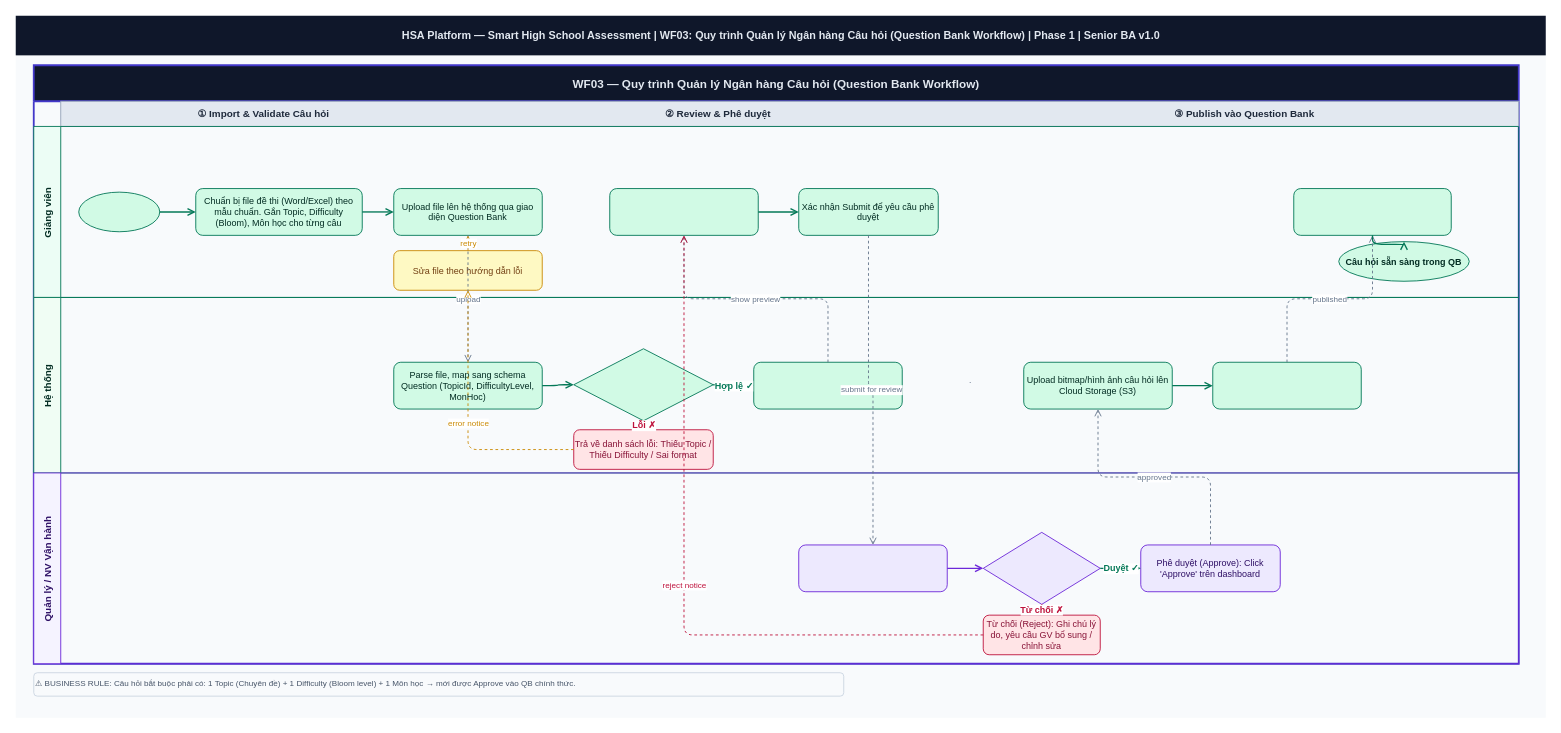
Some shapes in this 1561 by 733 pixel diagram are drawn without their labels. Here are the shapes that lost their labels. From the top down, the box of each, then its label:
(78, 191, 160, 232): Bắt đầu
(609, 188, 758, 235): Review câu hỏi đã parse trên giao diện preview. Chỉnh sửa nếu cần
(1293, 188, 1451, 235): Nhận thông báo: Câu hỏi đã được publish vào QB
(573, 348, 713, 421): Format & Required fields hợp lệ?
(753, 361, 902, 409): Hiển thị Preview câu hỏi (MathJax render công thức LaTeX)
(1212, 361, 1361, 409): Publish câu hỏi vào Question Bank (Status=Active). Gửi TB cho GV
(798, 544, 947, 592): Nhận yêu cầu phê duyệt bộ câu hỏi (summary: số câu, topic phân bổ)
(982, 531, 1100, 604): Phê duyệt bộ câu hỏi?
